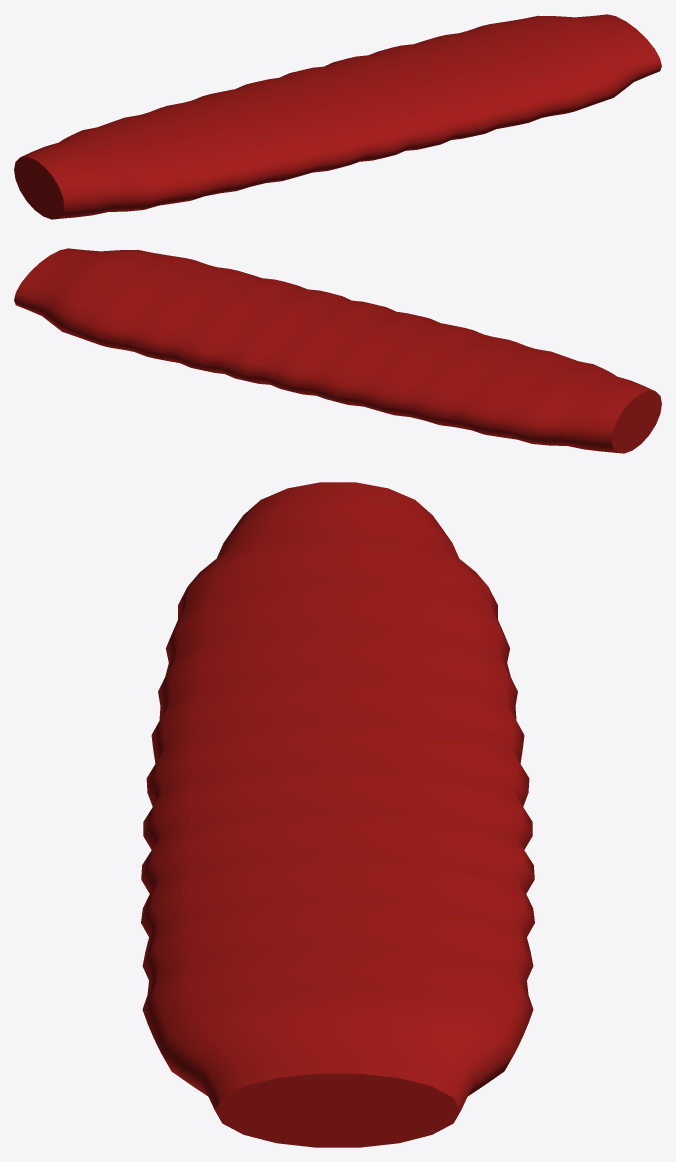
The model's file is sleeping_bag.glb.
3 renders of one model, top to bottom at view 1: azimuth 30°, elevation 25°; view 2: azimuth 150°, elevation 25°; view 3: azimuth 270°, elevation 25°, orthographic. The views are drawn at different scales.
Visible parts, largest first — view 1: sleeping_bag; view 2: sleeping_bag; view 3: sleeping_bag.
Part boxes in pixels (<box>): sleeping_bag: <box>14,14,661,219</box>; sleeping_bag: <box>14,248,661,453</box>; sleeping_bag: <box>141,482,534,1147</box>.
Bounding box in the file's own units: 2.05 × 0.1775 × 0.591.
